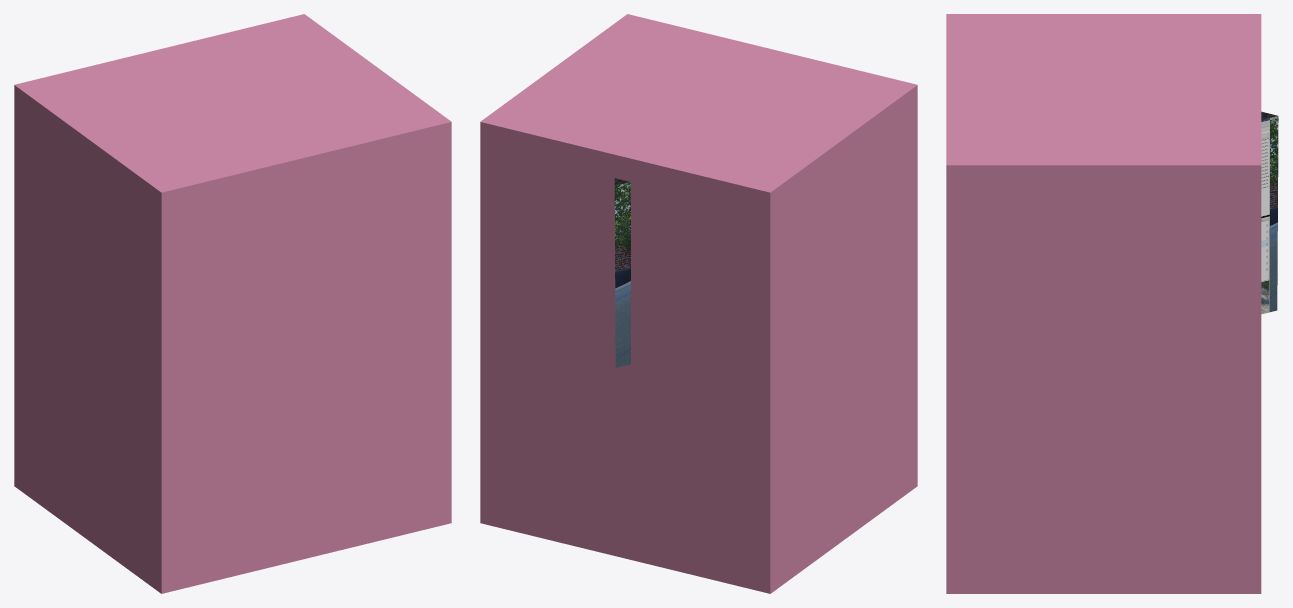
The model's file is billboards_01_b.dae.
3 views of the same model, side by side, from view 1: azimuth 30°, elevation 25°; view 2: azimuth 150°, elevation 25°; view 3: azimuth 270°, elevation 25° (orthographic). The views are drawn at different scales.
Visible parts, largest first — view 1: Untitled; view 2: Untitled, tree_oak_bush_a10; view 3: Untitled, tree_oak_bush_a10.
Part boxes in pixels (x1,y1,x2,y2): Untitled: (14,14,451,593); Untitled: (480,14,917,593); tree_oak_bush_a10: (614,178,630,367); Untitled: (946,14,1261,593); tree_oak_bush_a10: (1261,111,1278,314).
Size of the model in its own units: 4.32 by 4 by 5.84.
